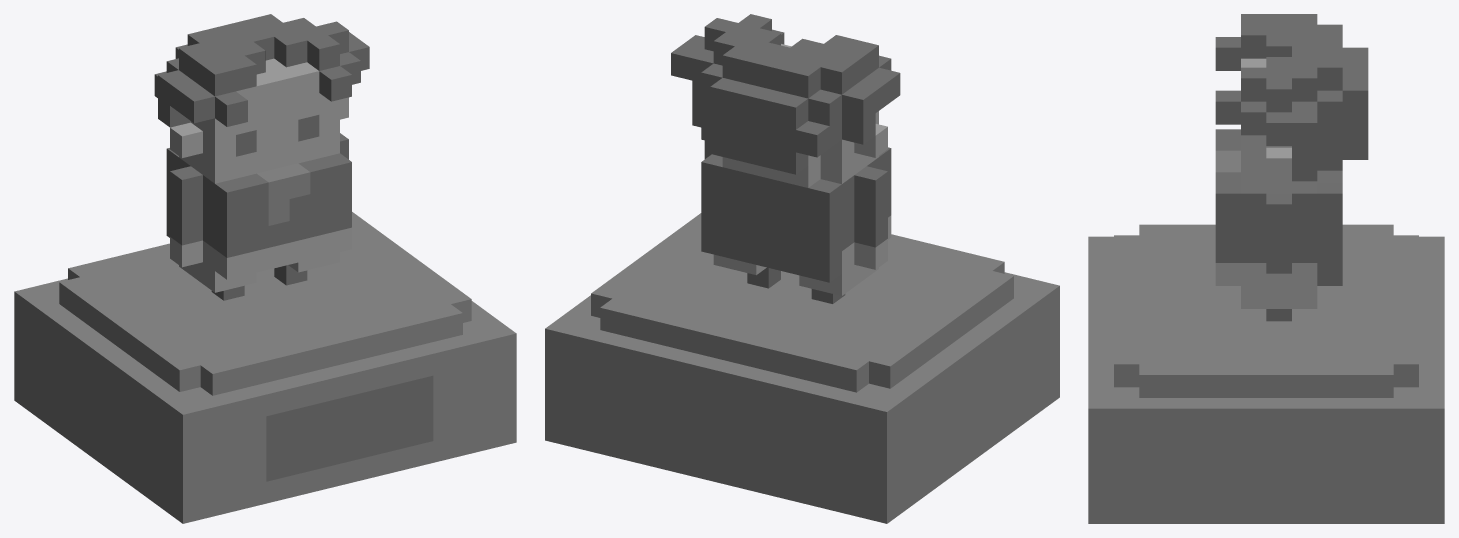
File: obj_statue1.obj
3 renders of one model, left to right at view 1: azimuth 30°, elevation 25°; view 2: azimuth 150°, elevation 25°; view 3: azimuth 270°, elevation 25°, orthographic. The views are drawn at different scales.
Size of the model in its own units: 1.6 by 1.7 by 1.4.
1 material, 1 textured.
